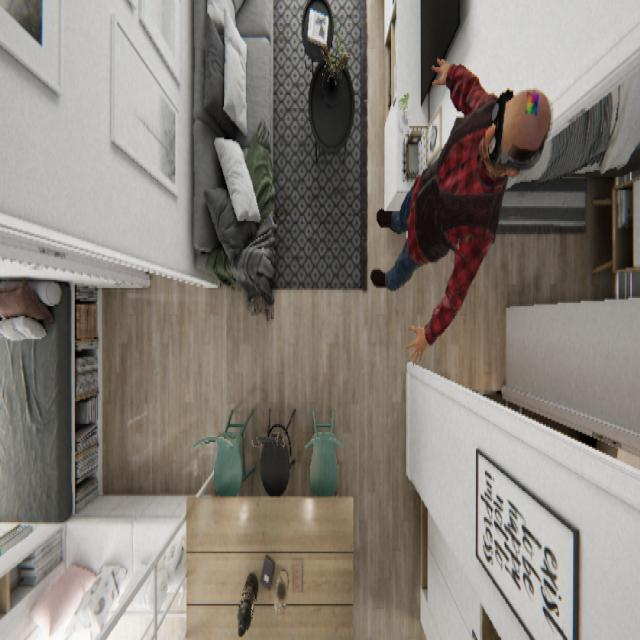Colored-Marker: (524, 87, 540, 116)
Human: (370, 52, 552, 367)
